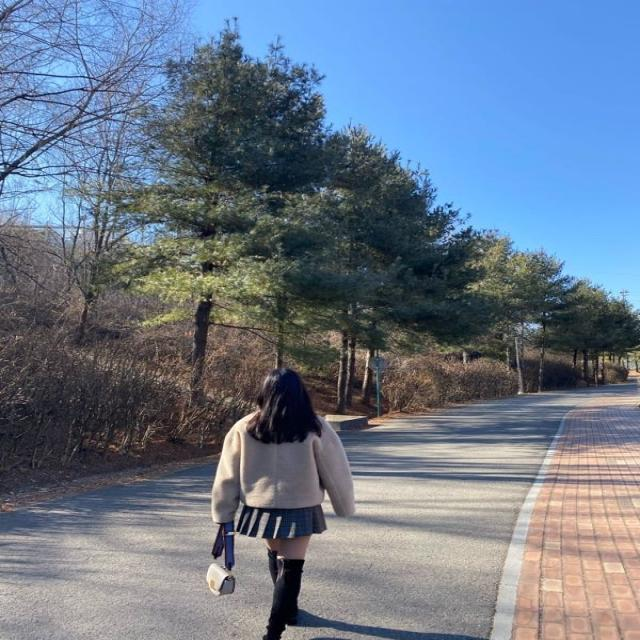jacket: (209, 408, 356, 526)
skirt: (233, 498, 328, 539)
